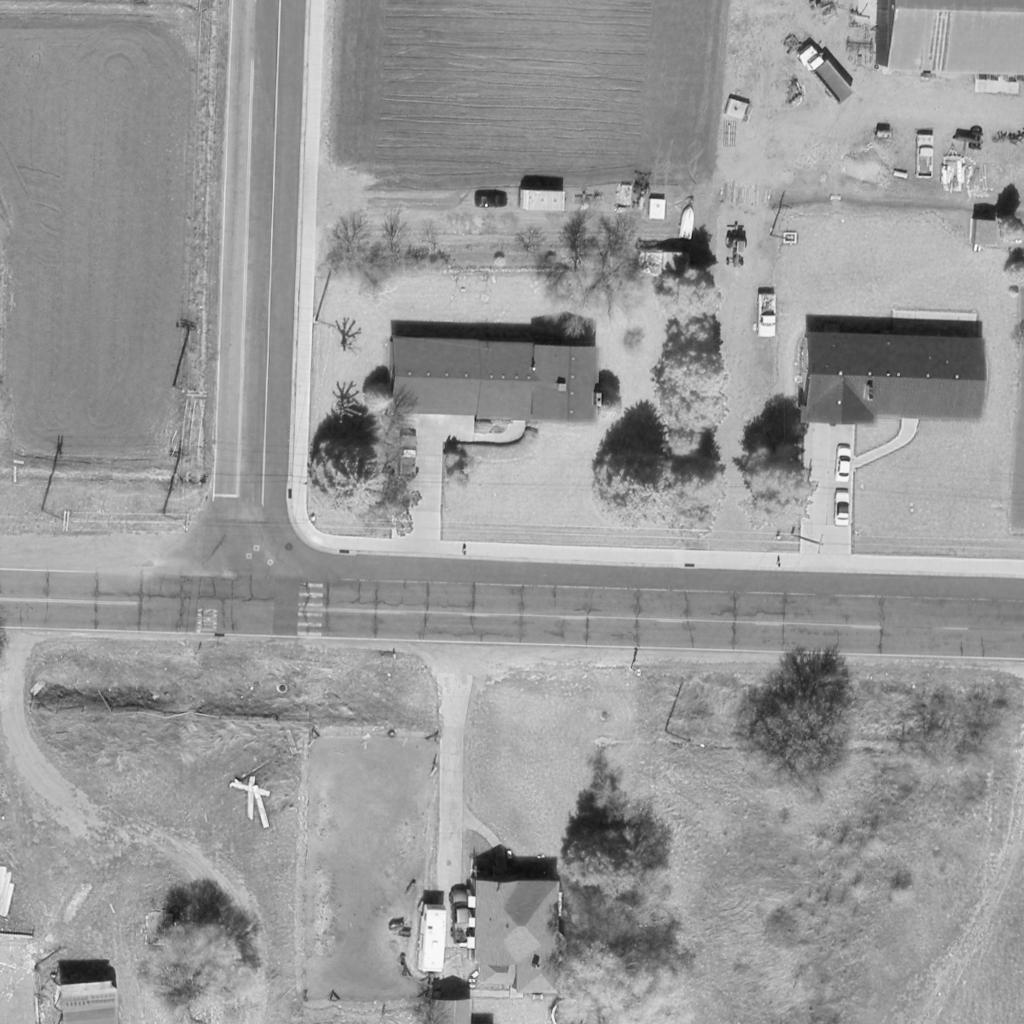vehicle: (796, 42, 860, 110), (417, 903, 447, 975), (392, 429, 418, 481), (521, 189, 567, 215), (723, 225, 749, 269), (755, 292, 777, 338), (448, 890, 474, 928), (916, 134, 936, 180), (678, 203, 698, 241), (836, 492, 850, 528), (838, 445, 850, 483), (474, 194, 508, 206)
